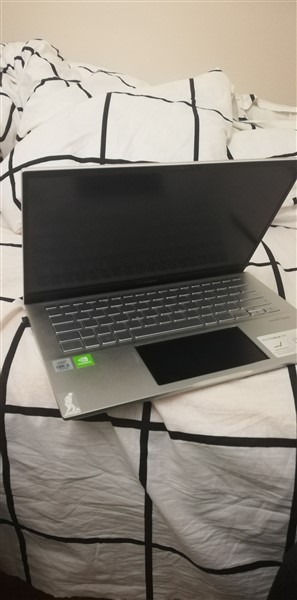laptop: (19, 157, 296, 426)
